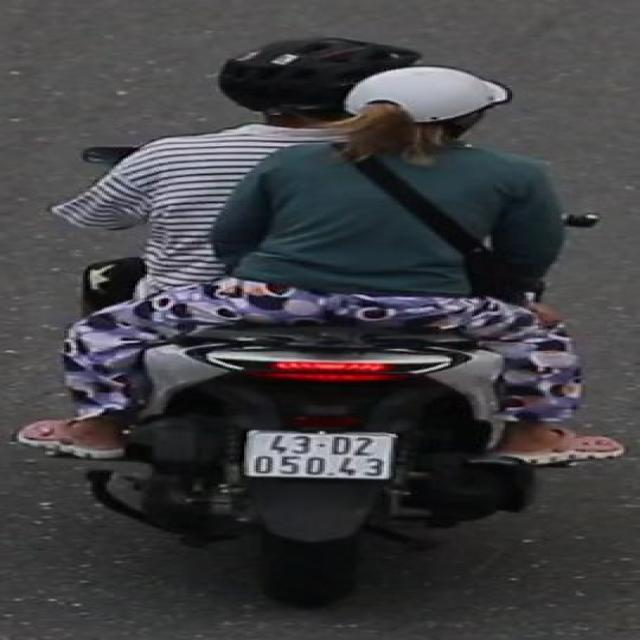LP: (238, 428, 407, 487)
helmet: (205, 31, 399, 139), (339, 65, 519, 162)
